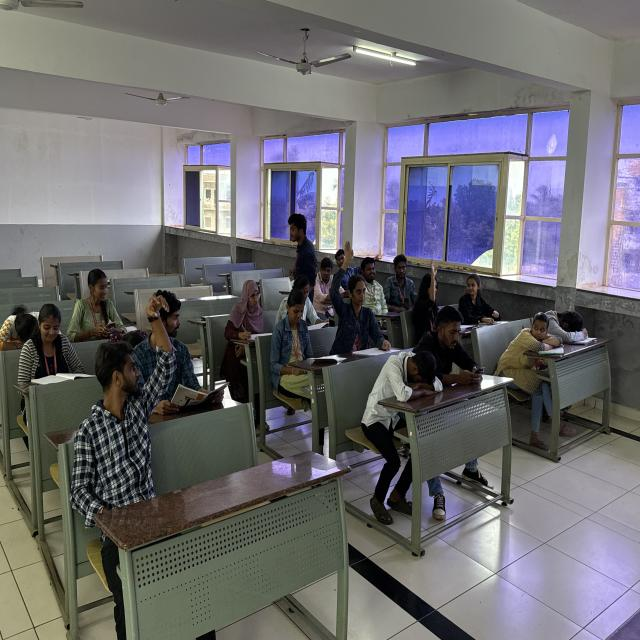Hand Rising: (70, 298, 176, 482), (321, 252, 388, 358), (400, 251, 454, 329)
Reading: (12, 273, 87, 389)
Sleeping: (1, 285, 62, 463), (362, 346, 438, 434), (0, 258, 57, 366), (498, 300, 556, 392), (537, 274, 596, 349)
Using Phone: (404, 280, 489, 404), (65, 234, 138, 345)
